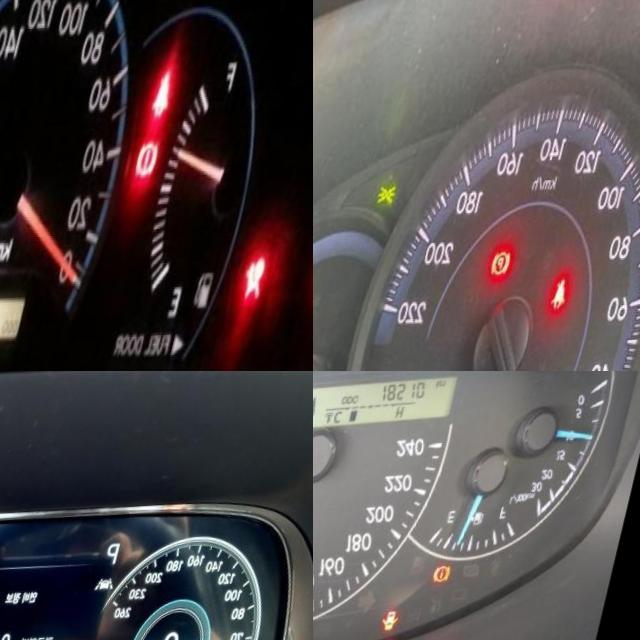LaneCenteringOff: (109, 581, 129, 595)
Seat Belt: (159, 78, 188, 124), (566, 283, 587, 312)
